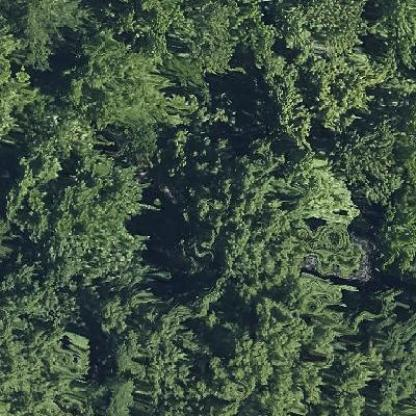tree-top: (10, 131, 146, 274), (64, 38, 200, 133), (95, 285, 198, 387), (0, 324, 95, 411), (0, 0, 83, 70)
